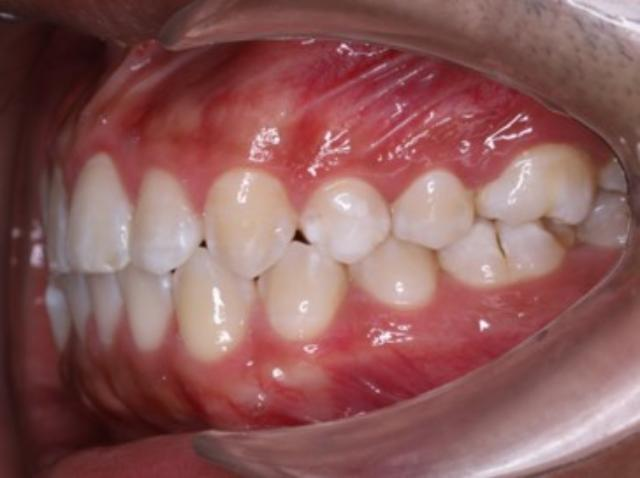canine class II 1/4: (168, 147, 348, 367)
molar class III 1/4: (439, 128, 603, 298)
